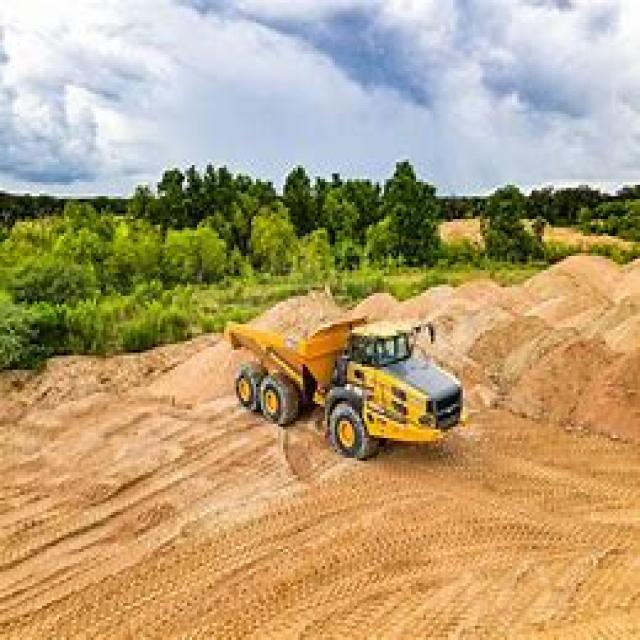dump_truck: (217, 273, 475, 469)
